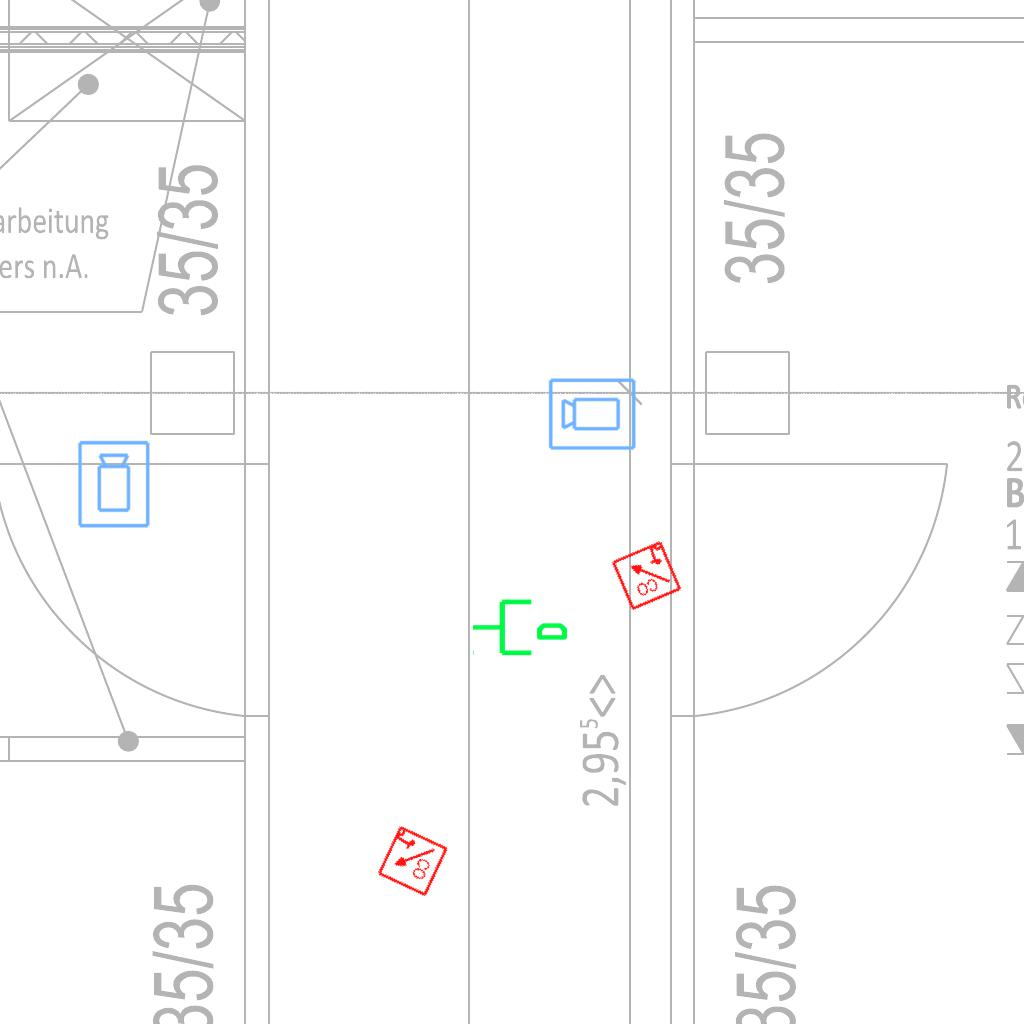Datenanschluss_einfach: (470, 591, 570, 660)
KFO_Kamera_mit_Festobjektiv: (76, 439, 153, 530), (547, 375, 638, 452)
ROA_Rauchmelder_optisch_mit_Signalgeber_(Sockelsirene): (374, 823, 450, 899), (609, 538, 683, 612)
